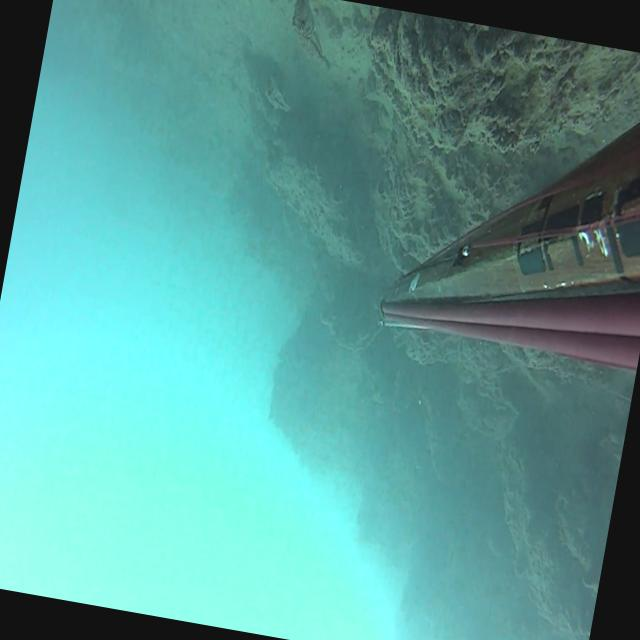Balon Baligi: (283, 0, 341, 71), (260, 72, 296, 112)
